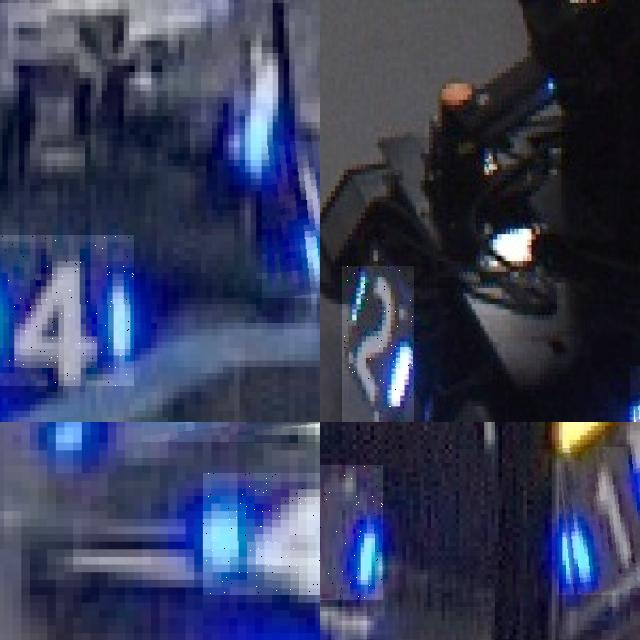B1: (557, 446, 640, 595), (320, 465, 382, 599)
B2: (341, 266, 414, 422)
B4: (0, 235, 134, 385), (202, 473, 320, 595), (261, 141, 320, 298)
